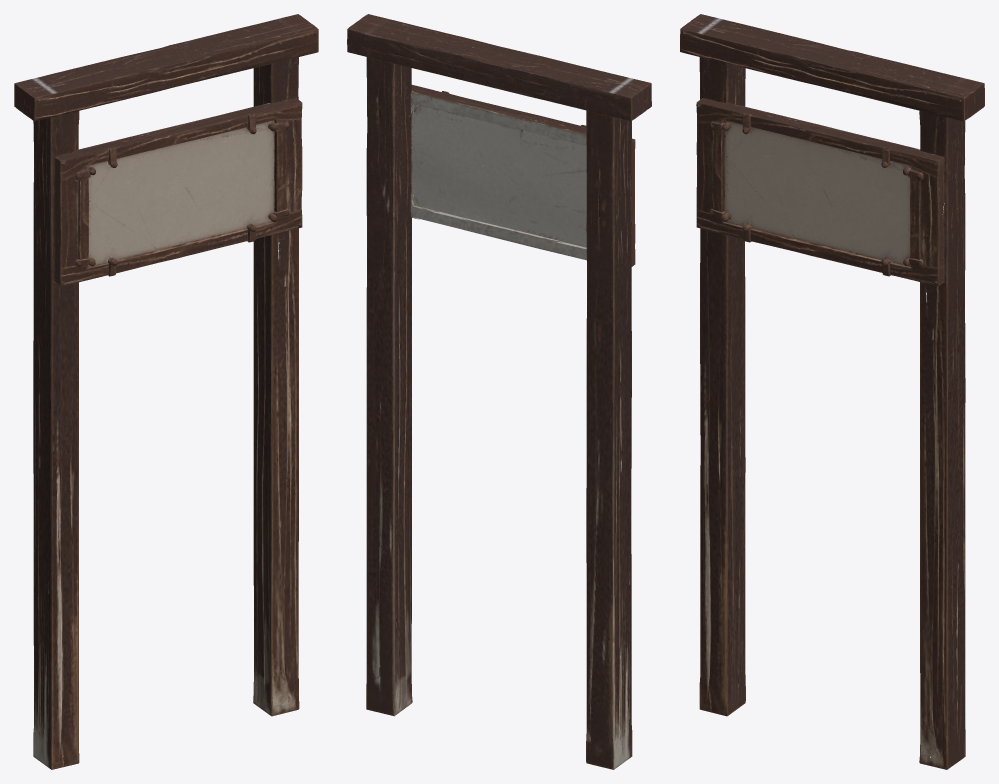
File: sign_board_posts.glb
3 renders of one model, left to right at view 1: azimuth 30°, elevation 25°; view 2: azimuth 150°, elevation 25°; view 3: azimuth 330°, elevation 25°, orthographic.
Parts seen in each view (by area): view 1: main; view 2: main; view 3: main.
Part boxes in pixels (bbox=[...]): main: bbox=[14, 14, 318, 769]; main: bbox=[347, 14, 651, 769]; main: bbox=[680, 14, 984, 769].
Bounding box in the file's own units: 1.49 × 3.38 × 0.2661.
1 material, 1 textured.
